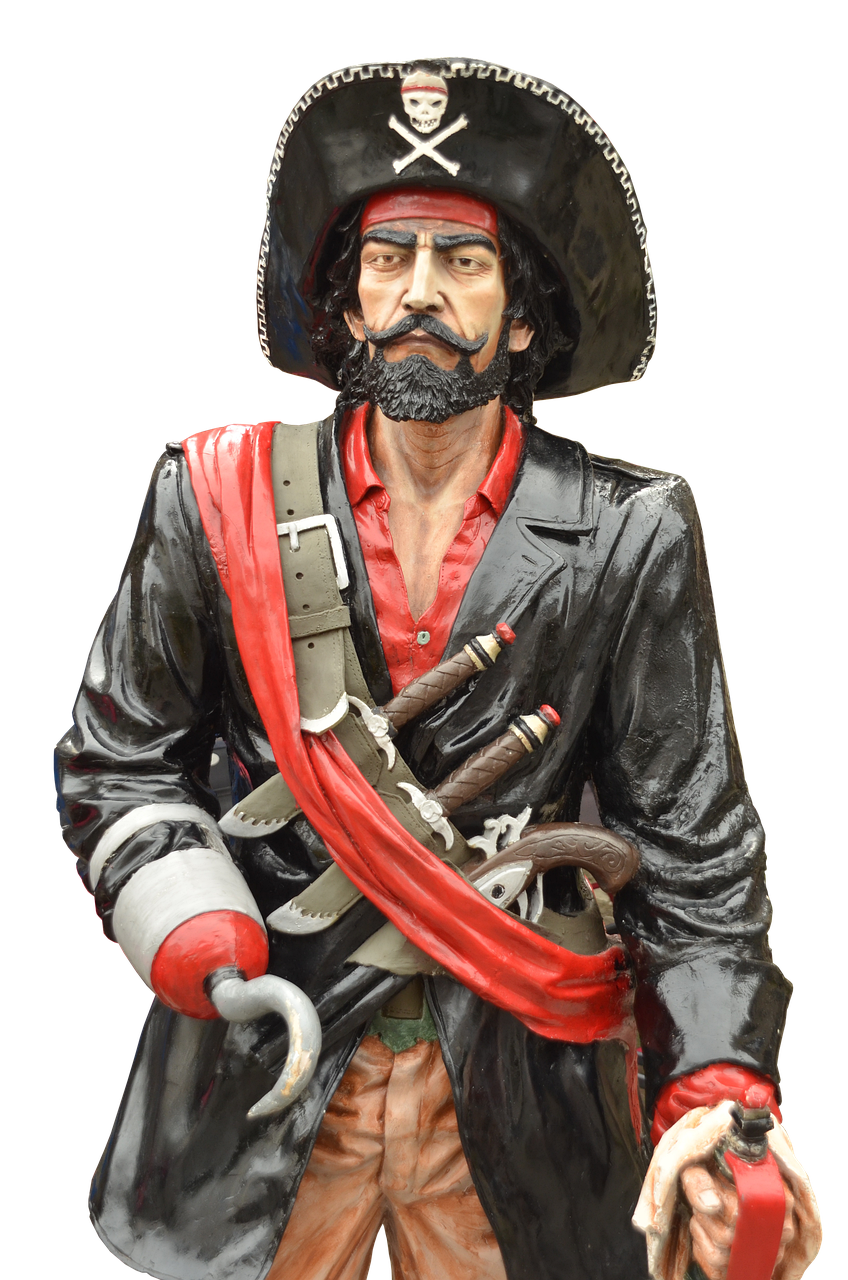gun: (257, 817, 642, 1105)
knife: (257, 695, 571, 966), (200, 619, 516, 873)
